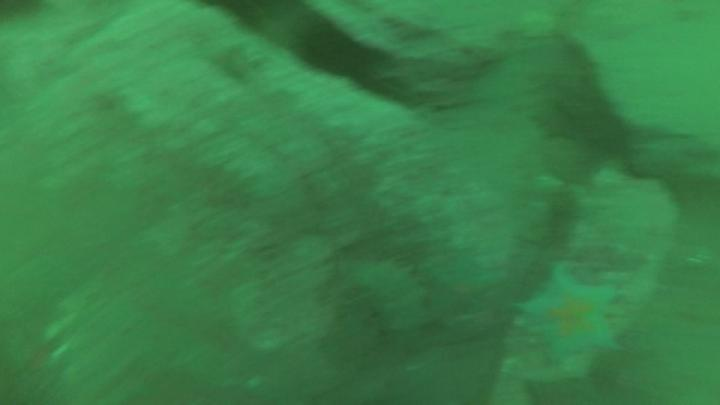echinus: (304, 23, 374, 78)
starfish: (515, 268, 624, 363), (430, 254, 507, 314)
